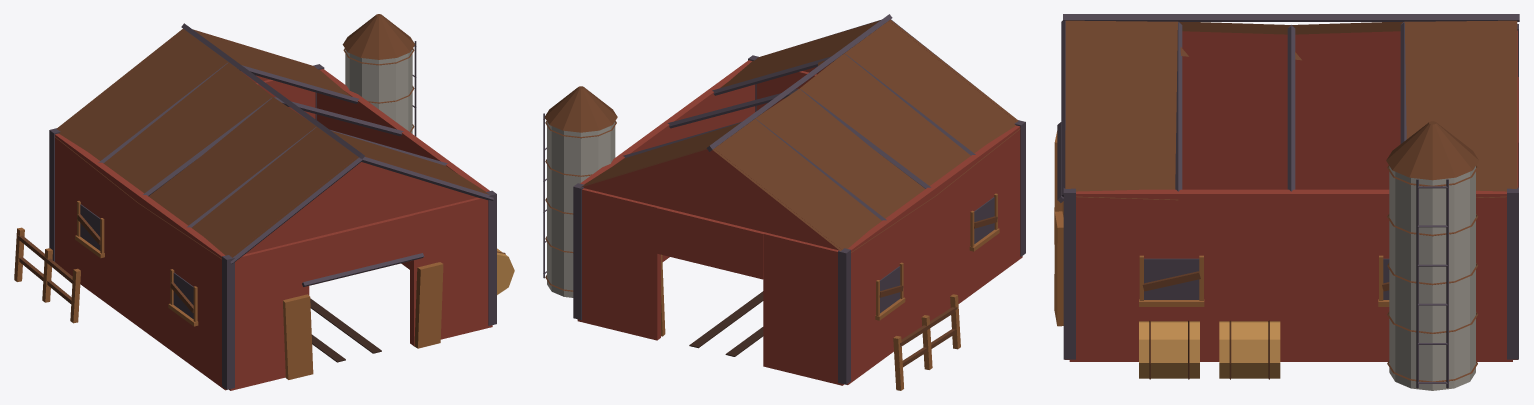
The picture shows the model from 3 angles, left to right: view 1: azimuth 30°, elevation 25°; view 2: azimuth 150°, elevation 25°; view 3: azimuth 270°, elevation 25°; orthographic projection. The views are drawn at different scales.
Parts seen in each view (by area): view 1: body; view 2: body; view 3: body.
Part boxes in pixels (x1,y1,x2,y2): body: [14, 14, 514, 390]; body: [543, 14, 1025, 390]; body: [1054, 14, 1519, 390].
Bounding box in the file's own units: 9.95 × 5.27 × 8.4.
